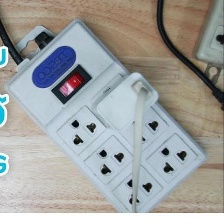three_eye_plug: (1, 14, 210, 223), (189, 0, 223, 75)
